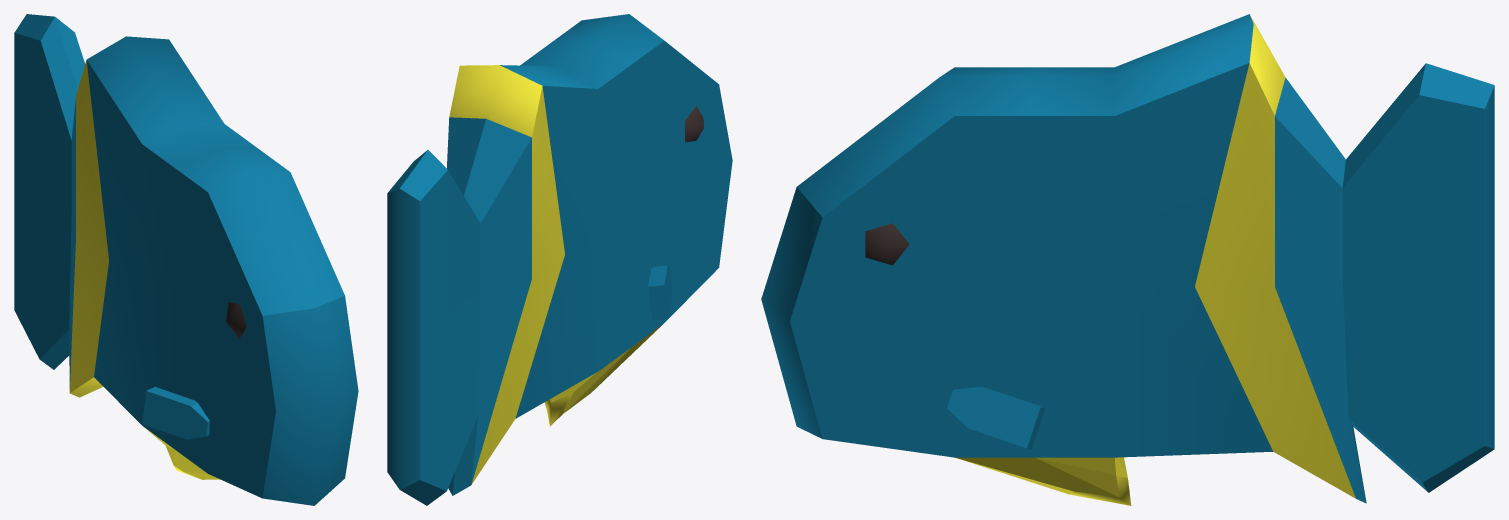
File: FishBlue.FBX
3 views of the same model, side by side, from view 1: azimuth 30°, elevation 25°; view 2: azimuth 150°, elevation 25°; view 3: azimuth 270°, elevation 25° (orthographic). The views are drawn at different scales.
Parts seen in each view (by area): view 1: FishBlue; view 2: FishBlue; view 3: FishBlue.
Part boxes in pixels (left/top/right/bottom): FishBlue: left=14, top=14, right=358, bottom=505; FishBlue: left=387, top=14, right=732, bottom=505; FishBlue: left=761, top=14, right=1494, bottom=505.
Size of the model in its own units: 3.64 by 9.2 by 12.69.
